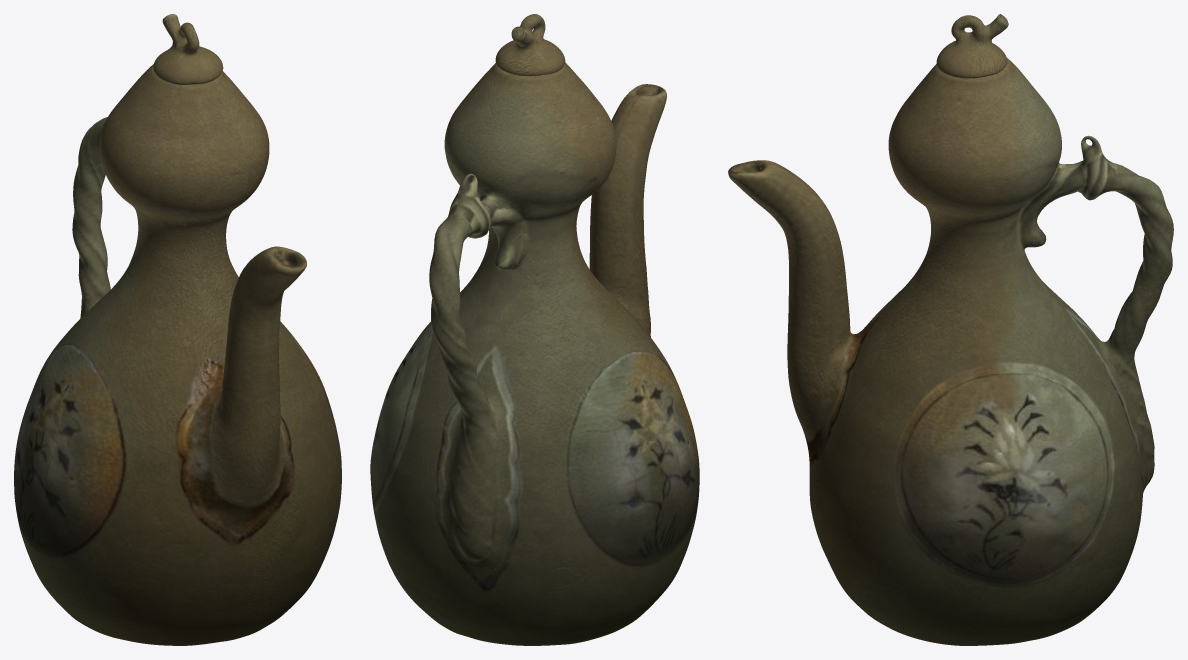
Rendered from kettle.glb.
The picture shows the model from 3 angles, left to right: view 1: azimuth 30°, elevation 25°; view 2: azimuth 150°, elevation 25°; view 3: azimuth 270°, elevation 25°; orthographic projection.
Visible parts, largest first — view 1: kettle, cap; view 2: kettle, cap; view 3: kettle, cap.
Part boxes in pixels (x1,y1,x2,y2): kettle: [14, 64, 341, 645]; cap: [153, 14, 223, 84]; kettle: [370, 62, 699, 645]; cap: [495, 14, 565, 75]; kettle: [728, 58, 1173, 645]; cap: [936, 14, 1008, 78].
Bounding box in the file's own units: 0.1298 × 0.2518 × 0.1723.
1 material, 1 textured.
